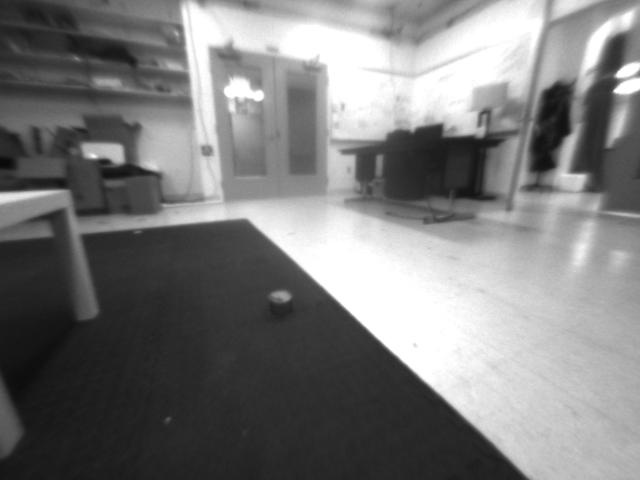dogtoy: (257, 280, 298, 317)
